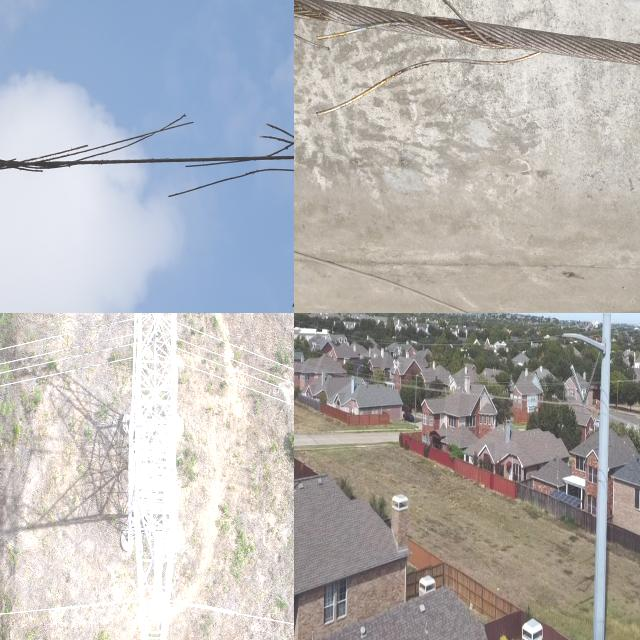杆塔: (112, 313, 196, 640)
正常绝缘子: (565, 349, 587, 410), (578, 353, 599, 414)
电缆破损: (0, 93, 294, 261), (441, 0, 640, 98)
